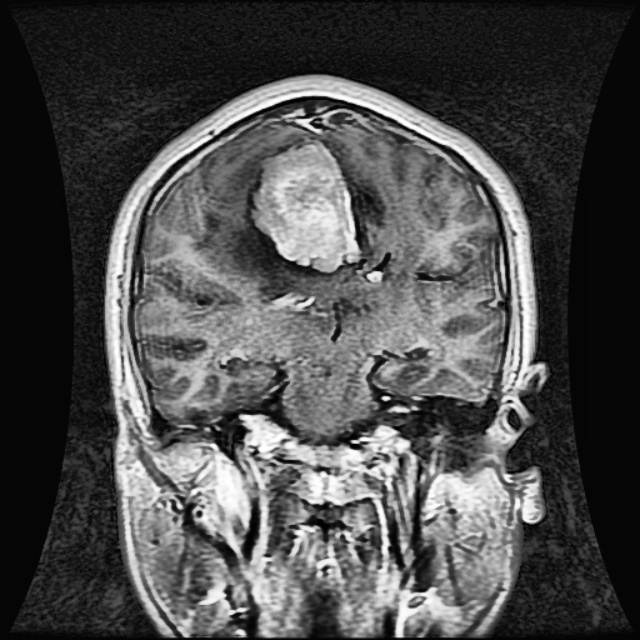Glioma: (252, 143, 359, 269)
